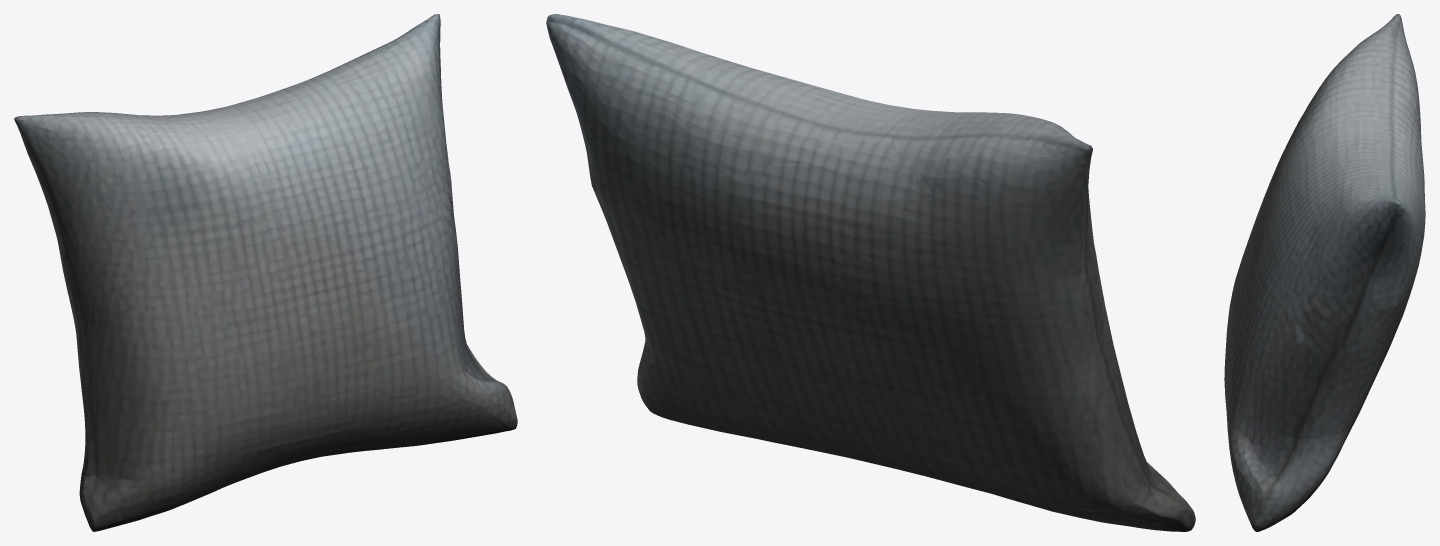
File: pillow-optimized.glb
3 views of the same model, side by side, from view 1: azimuth 30°, elevation 25°; view 2: azimuth 150°, elevation 25°; view 3: azimuth 270°, elevation 25° (orthographic). The views are drawn at different scales.
Visible parts, largest first — view 1: geometry_0; view 2: geometry_0; view 3: geometry_0.
Boxes of the visible parts, <box> form: geometry_0: <box>14,14,517,531</box>; geometry_0: <box>546,14,1195,531</box>; geometry_0: <box>1224,14,1425,531</box>.
Bounding box in the file's own units: 0.9992 × 0.8044 × 0.4438.
Materials: 1 (1 with a texture image).
